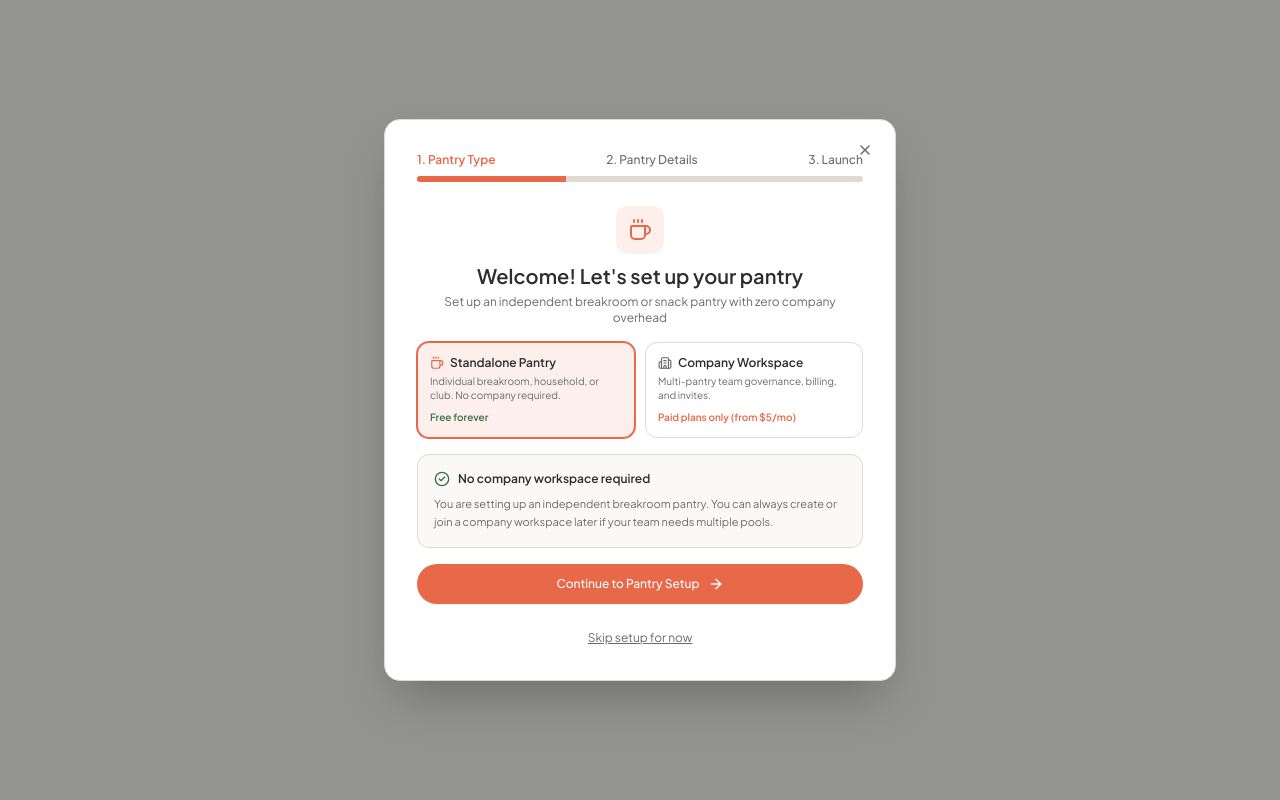
Test: OnboardingWizardModal - Optional Company Creation › defaults to standalone pantry mode for free/community tier without forcing company name
Expected: the text "Standalone Pantry" is shown, [450,355,556,371]
Expected: the text "No company workspace required" is shown, [458,471,650,487]
Note: Advancing to step 2 does NOT require company name
Step 1. Click the button "Continue to Pantry Setup" → (640, 584), box [417,564,863,604]
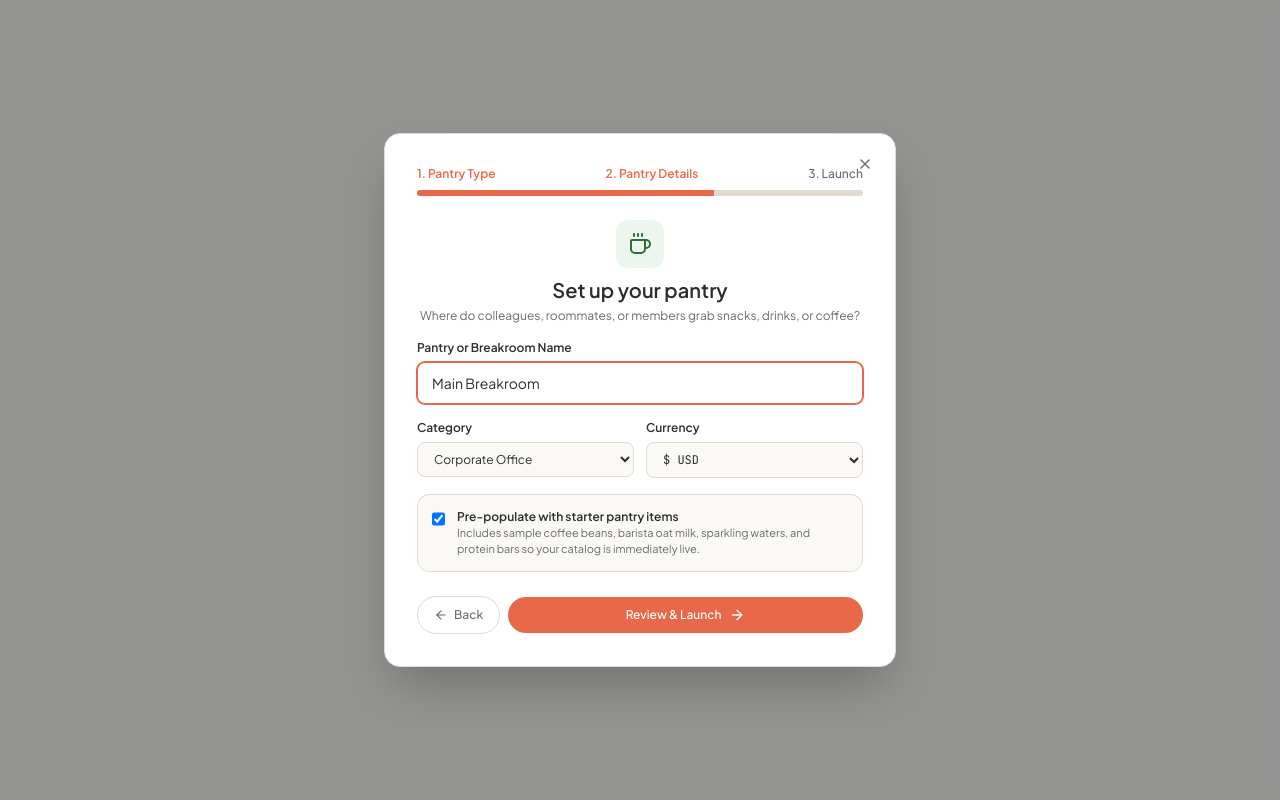
Expected: the heading "Set up your pantry" is shown, [552,277,728,302]
Now the field with placeholder "e.g. 2nd Floor Kitchen or Coffee Bar" is shown, box [417,362,863,404]
